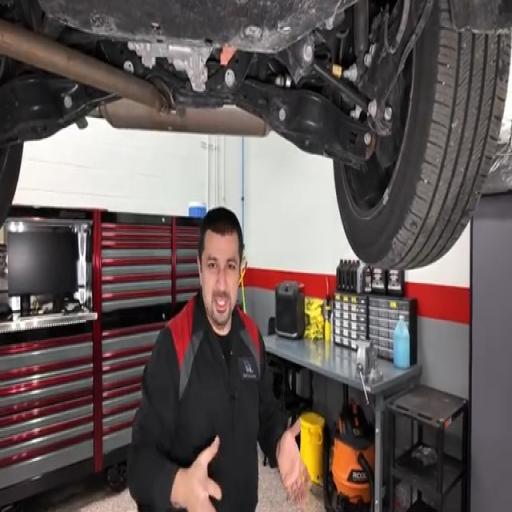bumper: (450, 0, 511, 32)
exhaust: (92, 100, 269, 136)
tire: (335, 0, 510, 268), (0, 144, 23, 226)
wheel: (334, 0, 510, 268)
